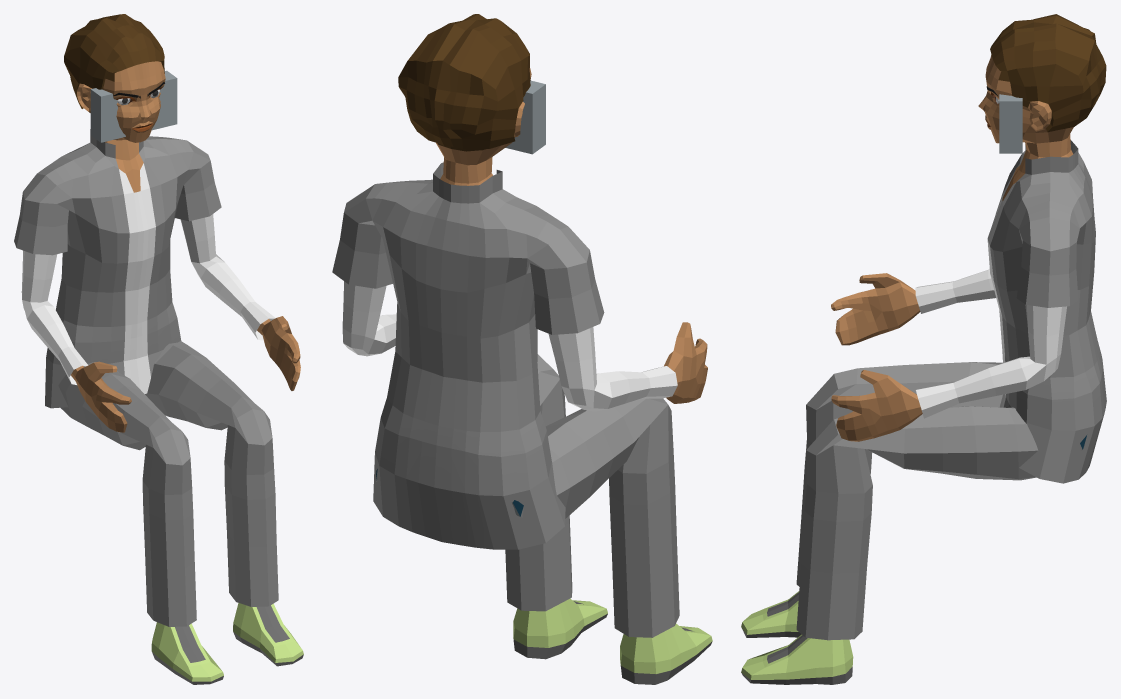
File: StudentMale_Sit_Mask.fbx
3 renders of one model, left to right at view 1: azimuth 30°, elevation 25°; view 2: azimuth 150°, elevation 25°; view 3: azimuth 270°, elevation 25°, orthographic. The views are drawn at different scales.
Visible parts, largest first — view 1: StudentMale_Sit_Mask; view 2: StudentMale_Sit_Mask; view 3: StudentMale_Sit_Mask.
Boxes of the visible parts, box(x1,y1,x2,y2) form: StudentMale_Sit_Mask: box(14, 14, 303, 684); StudentMale_Sit_Mask: box(332, 14, 712, 684); StudentMale_Sit_Mask: box(741, 14, 1106, 684).
Size of the model in its own units: 0.2614 by 0.6639 by 0.3473.
